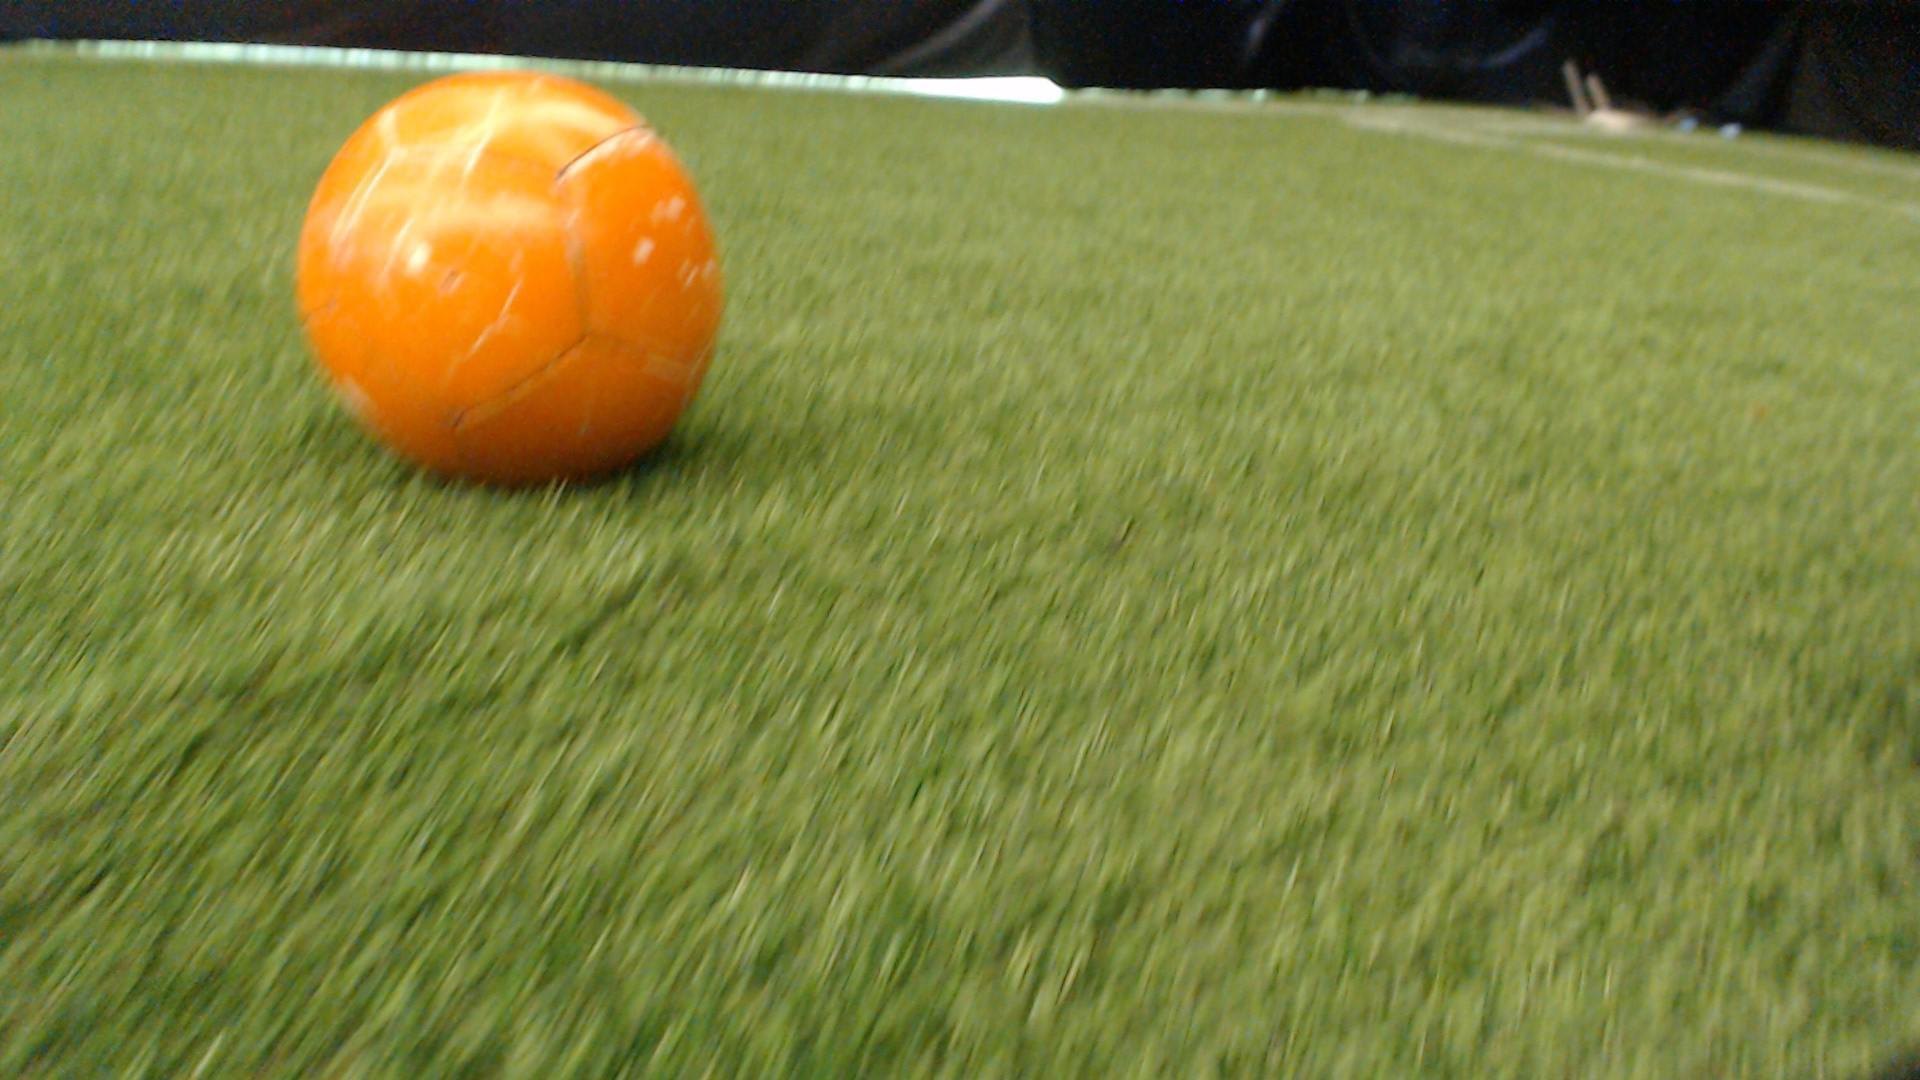bola: (268, 62, 787, 506)
